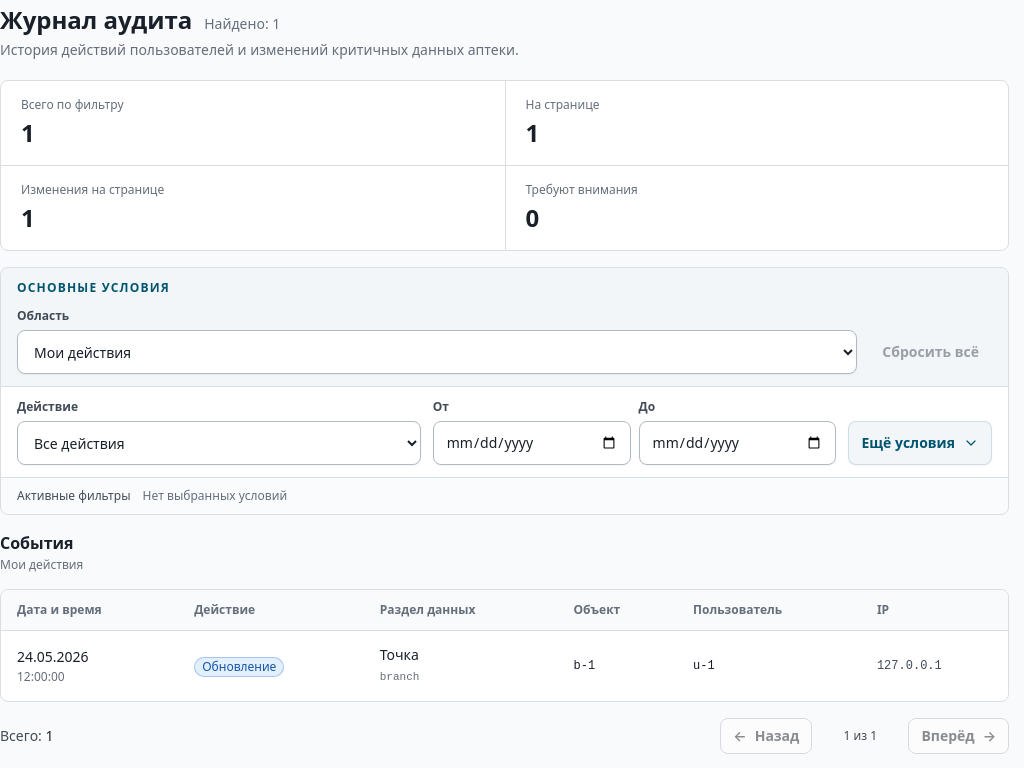
Test: AuditPage › opens the entry modal with a colored diff on row click
The image size is (1024, 768).
Click the row named "Открыть событие: Обновление, Точка" at (53, 656), box [1,630,1008,701]
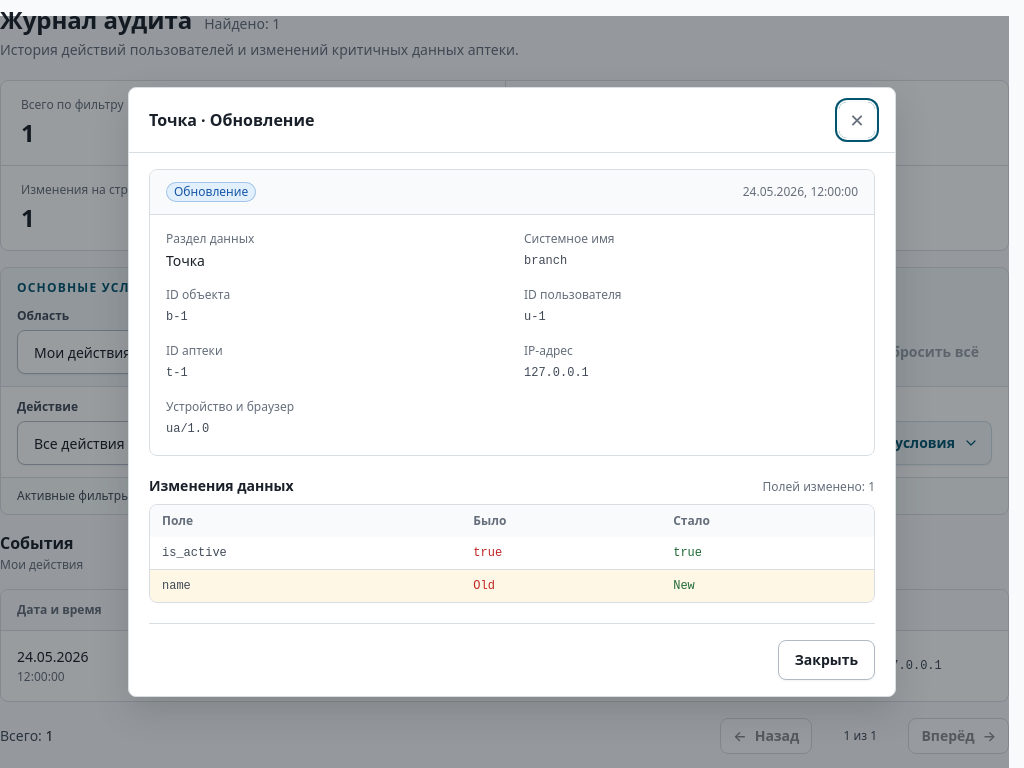
Result: the heading "Точка · Обновление" is shown at [149,108,314,132]
Result: the text "Old" is shown at [461,570,661,602]
Result: the text "New" is shown at [661,570,874,602]
